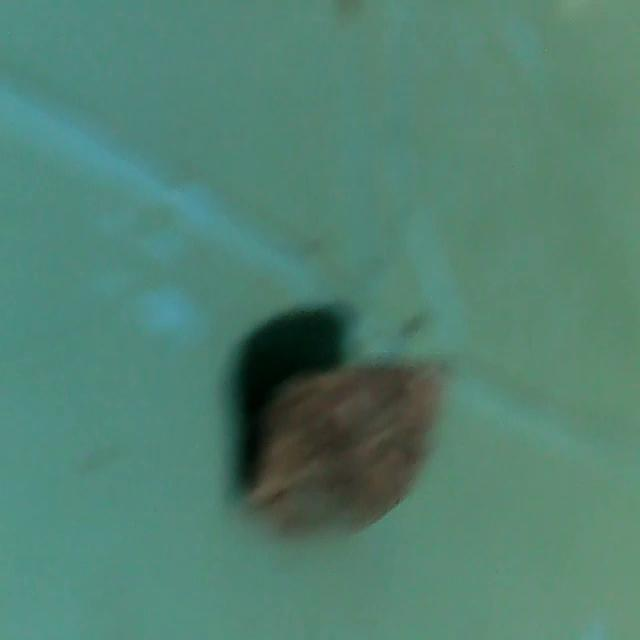rock: (232, 345, 454, 541)
